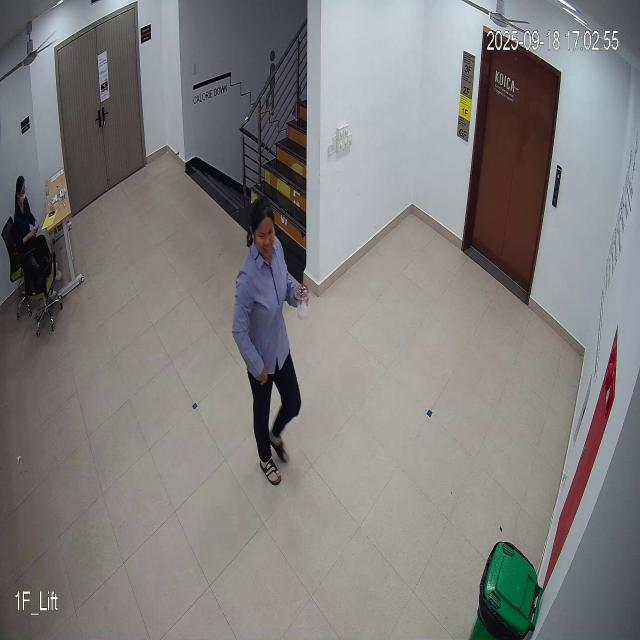face: (246, 199, 282, 265)
